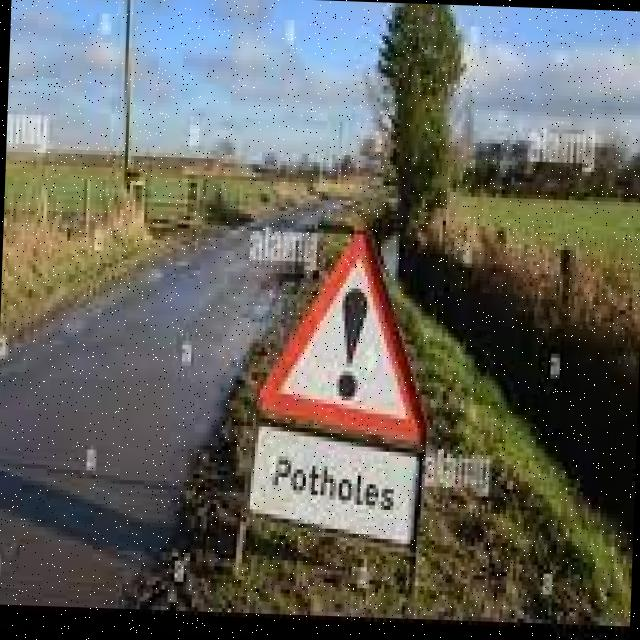warning: (256, 207, 434, 448)
